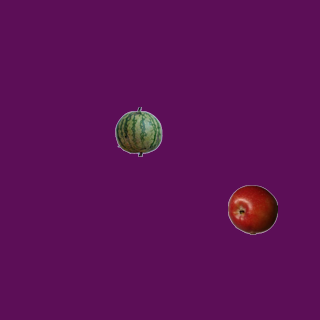Apple Braeburn: (227, 184, 277, 234)
Watermelon: (113, 106, 163, 156)
